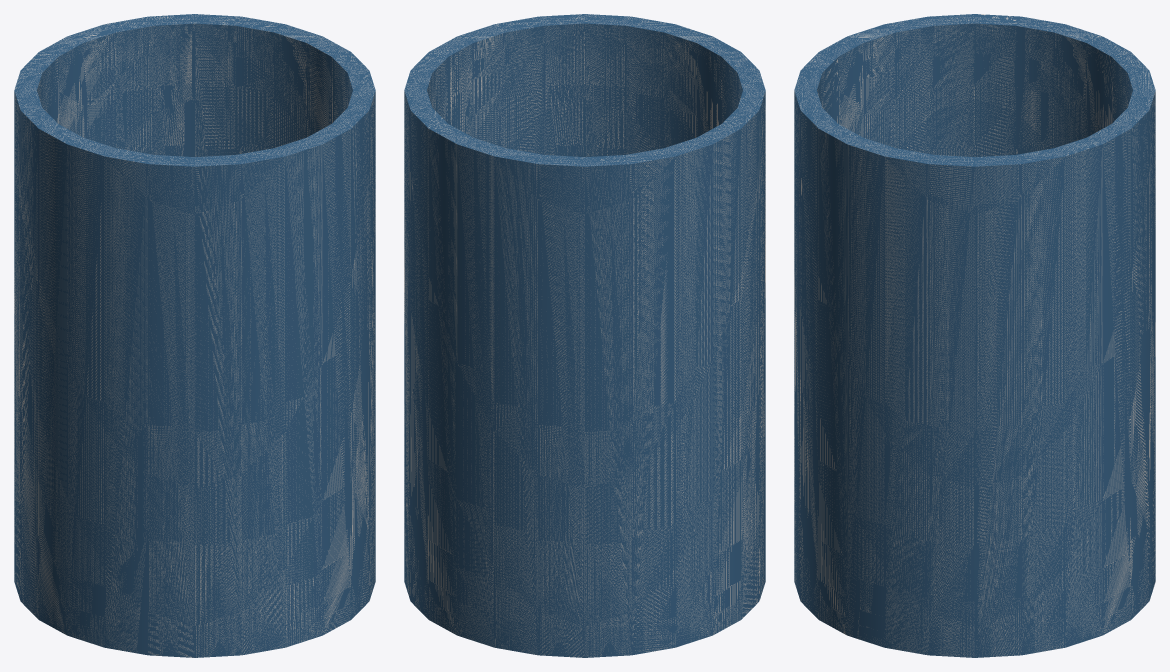
3 renders of one model, left to right at view 1: azimuth 30°, elevation 25°; view 2: azimuth 150°, elevation 25°; view 3: azimuth 270°, elevation 25°, orthographic.
Visible parts, largest first — view 1: mesh14_mesh14-geometry; view 2: mesh14_mesh14-geometry; view 3: mesh14_mesh14-geometry.
Boxes of the visible parts, x1=… form: mesh14_mesh14-geometry: x1=14, y1=14, x2=375, y2=657; mesh14_mesh14-geometry: x1=404, y1=14, x2=765, y2=657; mesh14_mesh14-geometry: x1=794, y1=14, x2=1155, y2=657.
Size of the model in its own units: 0.4851 by 0.7276 by 0.4851.
